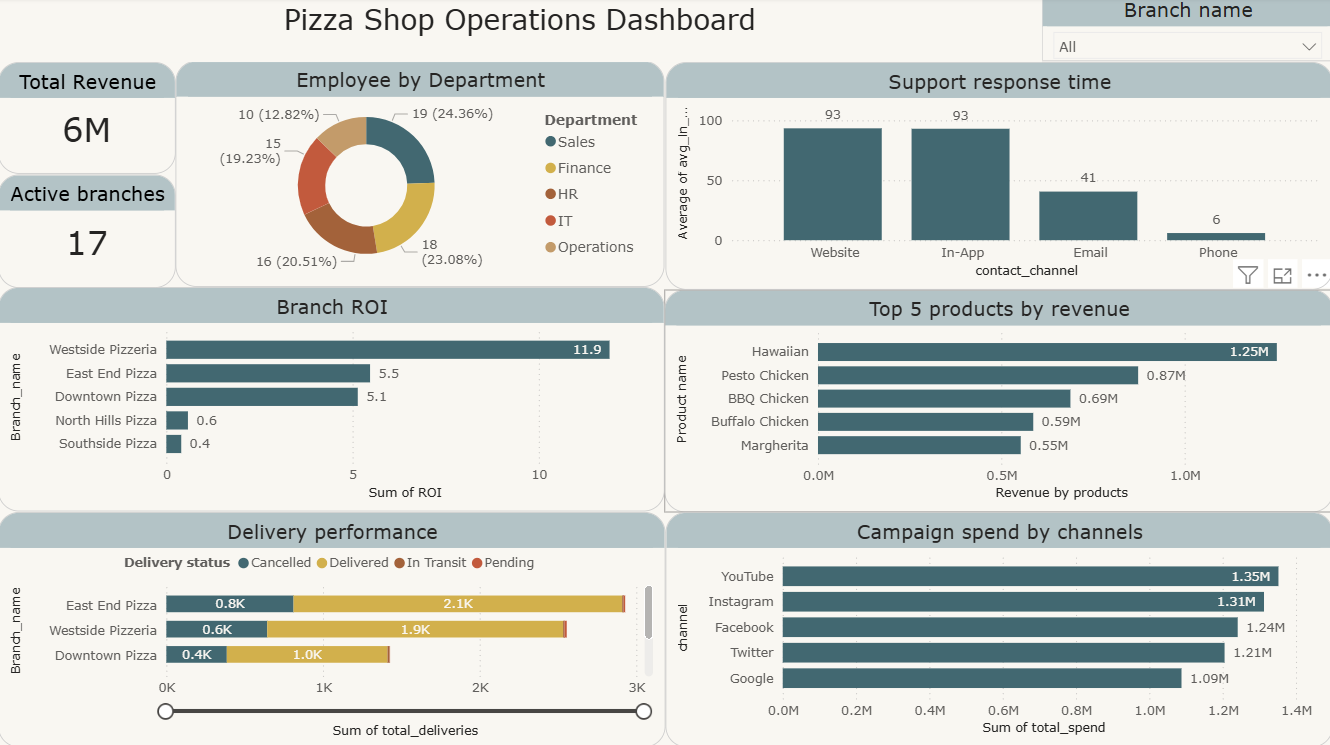

The dashboard page shown, as its layout file describes it:
{"tool":"powerbi","page":{"name":"Page 1","canvas":[1280,720],"ordinal":0},"visuals":[{"type":"clusteredBarChart","title":"Top 5 products by revenue","fields":{"Category":["top 5 products by revenue.product_name"],"Y":["Sum(top 5 products by revenue.revenue_by_products)"]},"box":[638.5,280.2,641.5,213.8],"z":0},{"type":"clusteredBarChart","title":"Branch ROI","fields":{"Category":["ROI by branch.Branch_name"],"Y":["Sum(ROI by branch.ROI)"]},"box":[0,278.3,639.3,215.3],"z":1000},{"type":"barChart","title":"Delivery performance","fields":{"Category":["delivery perfromance.Branch_name"],"Series":["delivery perfromance.delivery_status"],"Y":["Sum(delivery perfromance.total_deliveries)"]},"box":[0,494,640,225.6],"z":2000},{"type":"donutChart","title":"Employee by Department","fields":{"Y":["Sum(active employee by department (branch name added).active_employee)"],"Category":["active employee by department (branch name added).Department"]},"box":[170.7,61.7,468.7,216.6],"z":3000},{"type":"clusteredBarChart","title":"Campaign spend by channels","fields":{"Category":["campaign spend efficiency.channel"],"Y":["Sum(campaign spend efficiency.total_spend)"]},"box":[640,494,640,225.6],"z":4000},{"type":"clusteredColumnChart","title":"Support response time ","fields":{"Y":["Avg(support response time (branch name added).avg_in_mins)"],"Category":["support response time (branch name added).contact_channel"]},"box":[640,61.9,640,218.2],"z":5000},{"type":"slicer","title":"Branch name","fields":{"Values":["ROI by branch.Branch_name"]},"box":[1000.4,0,279.6,61.7],"z":6000},{"type":"card","title":"Total Revenue","fields":{"Values":["Sum(Total revenue for kpi.total_revenue)"]},"box":[0,62.2,170.7,107.4],"z":7000},{"type":"card","title":"Active branches","fields":{"Values":["Sum(active branchs for kpi.active_branches)"]},"box":[0,170.7,170.7,108.5],"z":8000},{"type":"textbox","box":[0,0,1000.6,62.2],"z":9000}]}

Visuals, with their boxes in screenshot pixels (x1, y1, x2, y2), scaled from the page's 1280x720 canvas onto the 1330x745 screenshot:
"Top 5 products by revenue" clusteredBarChart: 663 290 1329 511
"Branch ROI" clusteredBarChart: 0 288 664 511
"Delivery performance" barChart: 0 511 665 744
"Employee by Department" donutChart: 177 64 664 288
"Campaign spend by channels" clusteredBarChart: 665 511 1329 744
"Support response time " clusteredColumnChart: 665 64 1329 290
"Branch name" slicer: 1039 0 1329 64
"Total Revenue" card: 0 64 177 175
"Active branches" card: 0 177 177 289
textbox: 0 0 1040 64
